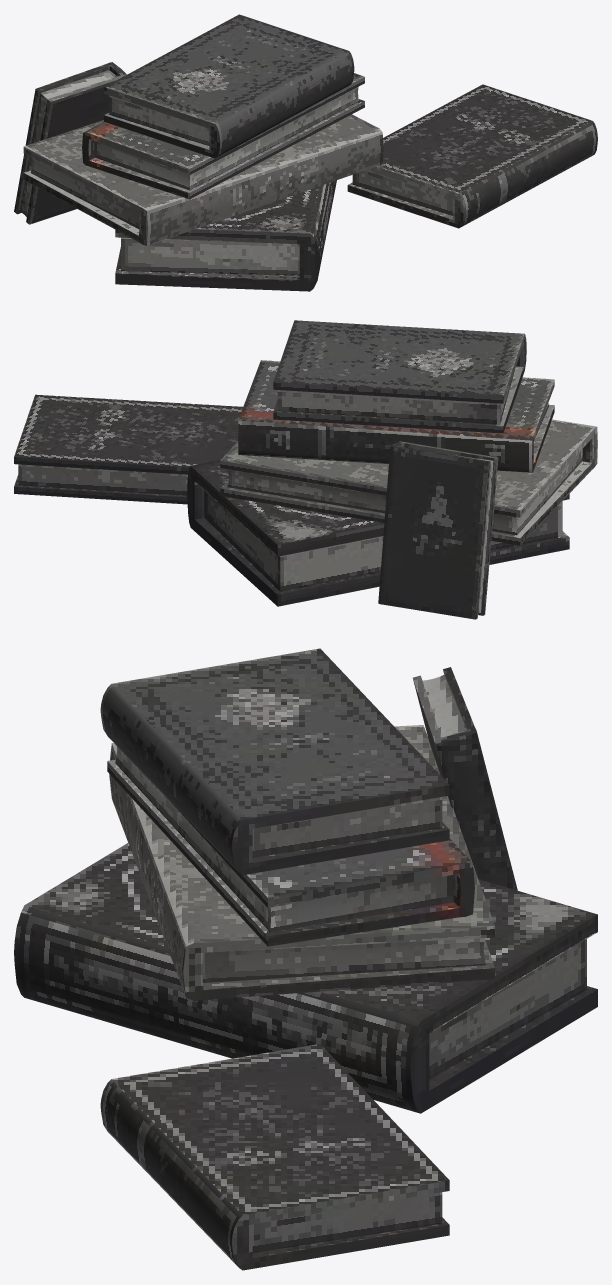
Rendered from g_books.glb.
3 views of the same model, one above another, from view 1: azimuth 30°, elevation 25°; view 2: azimuth 150°, elevation 25°; view 3: azimuth 270°, elevation 25° (orthographic). The views are drawn at different scales.
Visible parts, largest first — view 1: mesh; view 2: mesh; view 3: mesh.
Boxes of the visible parts, <box> form: mesh: <box>14,14,597,291</box>; mesh: <box>14,320,597,619</box>; mesh: <box>14,648,597,1270</box>.
Bounding box in the file's own units: 0.3923 × 0.12 × 0.2423.
Materials: 1 (1 with a texture image).
